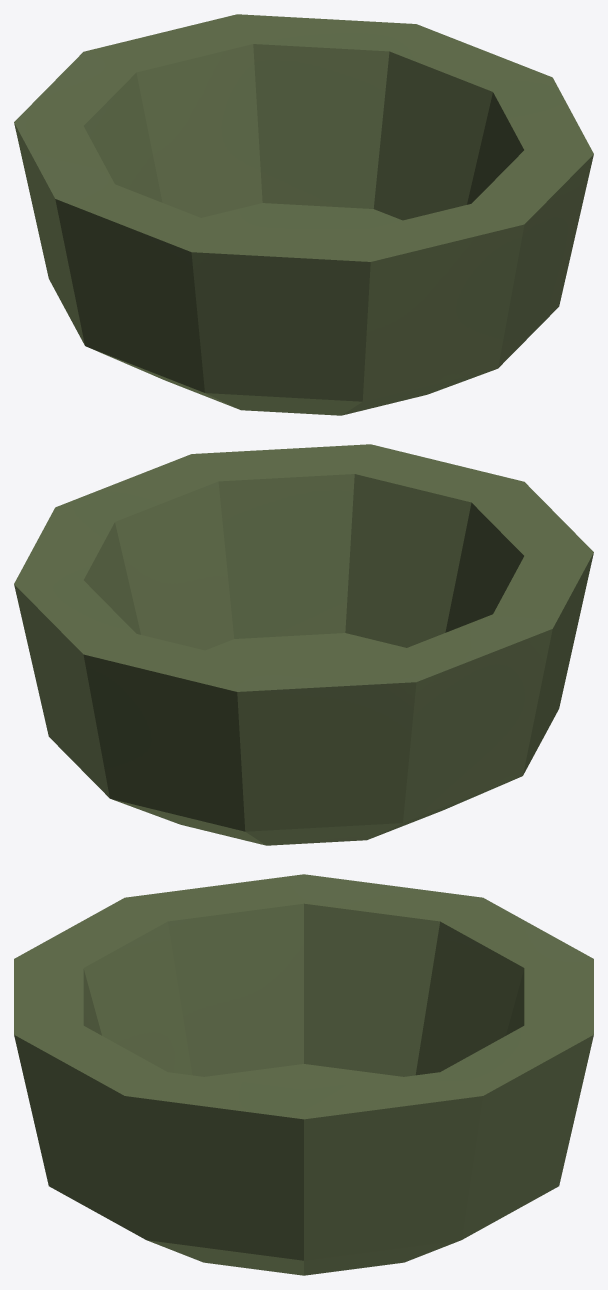
Rendered from WarrensC_WVC049_ServingBowl_Mars_SM.fbx.
3 renders of one model, top to bottom at view 1: azimuth 30°, elevation 25°; view 2: azimuth 150°, elevation 25°; view 3: azimuth 270°, elevation 25°, orthographic.
Visible parts, largest first — view 1: WarrensC_WVC049_ServingBowl_Mars_SM.001; view 2: WarrensC_WVC049_ServingBowl_Mars_SM.001; view 3: WarrensC_WVC049_ServingBowl_Mars_SM.001.
Part boxes in pixels (left/top/right/bottom): WarrensC_WVC049_ServingBowl_Mars_SM.001: left=14, top=14, right=593, bottom=415; WarrensC_WVC049_ServingBowl_Mars_SM.001: left=14, top=444, right=593, bottom=845; WarrensC_WVC049_ServingBowl_Mars_SM.001: left=14, top=874, right=593, bottom=1275.
Size of the model in its own units: 35 by 35 by 14.
